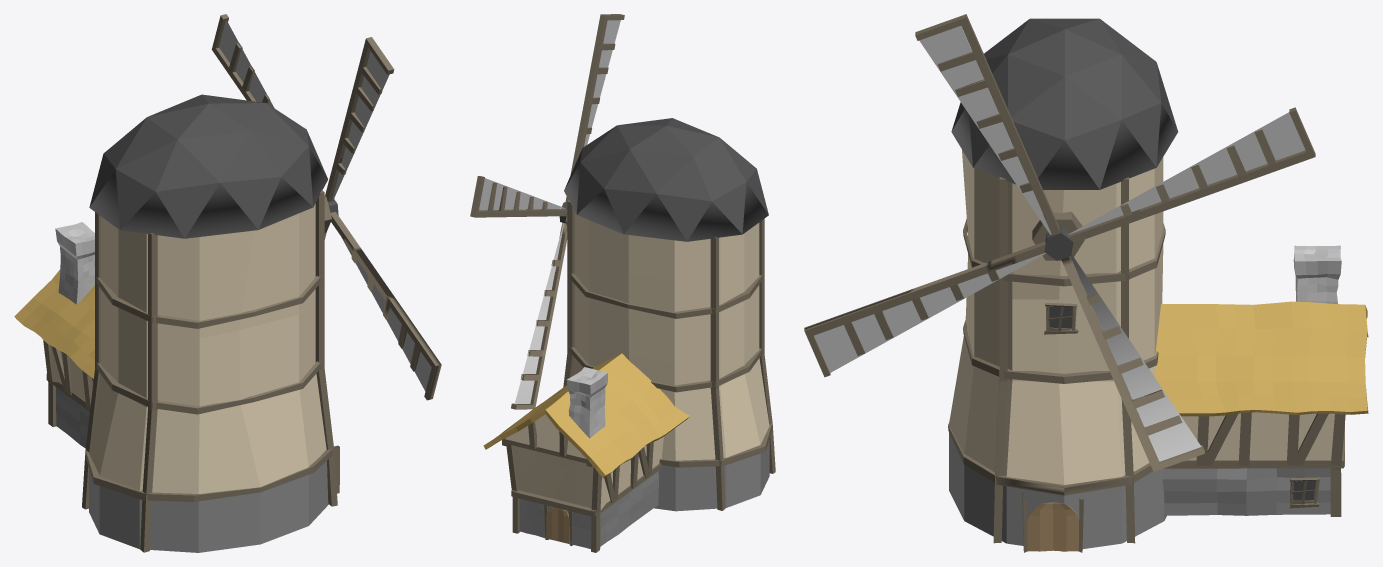
The model's file is Moulin.fbx.
The picture shows the model from 3 angles, left to right: view 1: azimuth 30°, elevation 25°; view 2: azimuth 150°, elevation 25°; view 3: azimuth 270°, elevation 25°; orthographic projection. The views are drawn at different scales.
Visible parts, largest first — view 1: Cube.001; view 2: Cube.001; view 3: Cube.001.
Part boxes in pixels (box(x1,y1,x2,y2)): Cube.001: box(14, 14, 441, 552); Cube.001: box(470, 14, 775, 552); Cube.001: box(804, 14, 1368, 552).
Bounding box in the file's own units: 1190 × 2275 × 2157.
